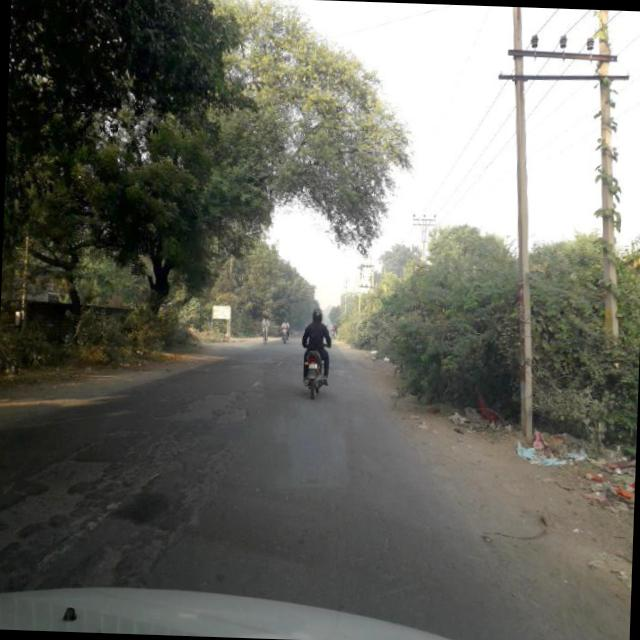pothole: (0, 427, 229, 587), (156, 374, 264, 429)
